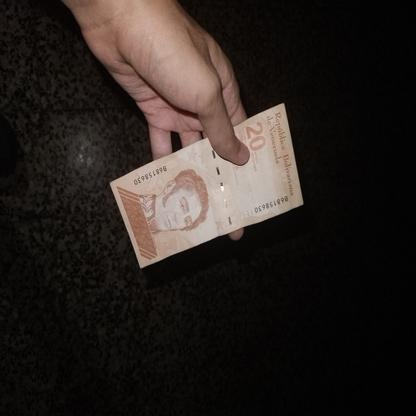twenty-front-vef: (108, 102, 304, 269)
